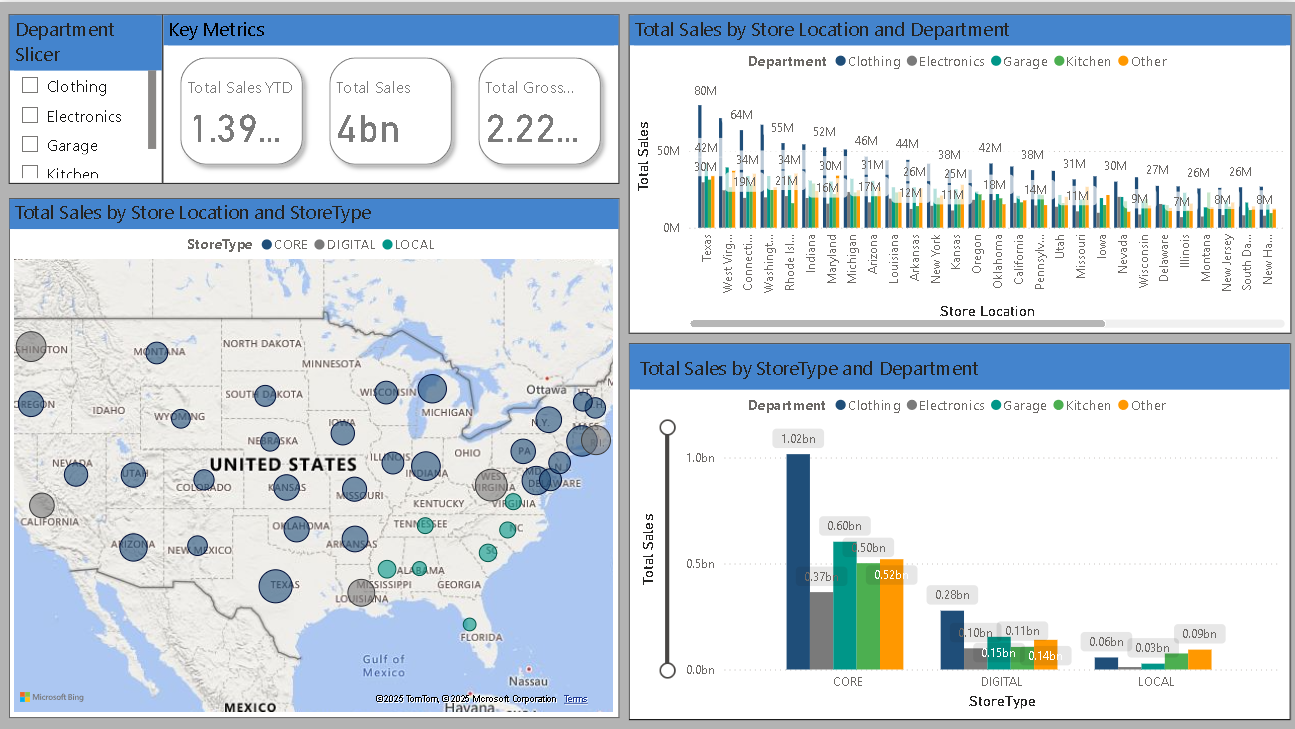

What the dashboard file says about the page in this screenshot:
{"tool":"powerbi","page":{"name":"Sales ","canvas":[1280,720],"ordinal":0},"visuals":[{"type":"clusteredColumnChart","fields":{"Category":["Store Details.StoreType"],"Series":["Categories.Department"],"Y":["Retail Sales.Total Sales"]},"box":[621.4,336.5,653.9,372],"z":0},{"type":"map","fields":{"Category":["Store Details.Store Location"],"Series":["Store Details.StoreType"],"Size":["Retail Sales.Total Sales"]},"box":[8.6,194.4,602.9,513.6],"z":1000},{"type":"lineClusteredColumnComboChart","fields":{"Category":["Store Details.Store Location"],"Series":["Categories.Department"],"Y":["Retail Sales.Total Sales"]},"box":[621.2,12.2,654.2,315.5],"z":2000},{"type":"cardVisual","title":"Key Metrics","fields":{"Data":["Retail Sales.Total Sales YTD","Retail Sales.Total Sales","Retail Sales.Total Gross Margin"]},"box":[160.2,12.2,451.2,167.5],"z":3000},{"type":"slicer","title":"Department Slicer","fields":{"Values":["Categories.Department"]},"box":[8.6,12.2,151.6,167.5],"z":4000}]}

Visuals, with their boxes in screenshot pixels (x1, y1, x2, y2), scaled from the page's 1280x720 canvas onto the 1295x729 screenshot:
clusteredColumnChart - Store Details.StoreType x Categories.Department: 629, 341, 1290, 717
map - Store Details.Store Location x Store Details.StoreType: 9, 197, 619, 717
lineClusteredColumnComboChart - Store Details.Store Location x Categories.Department: 628, 12, 1290, 332
"Key Metrics" cardVisual: 162, 12, 619, 182
"Department Slicer" slicer: 9, 12, 162, 182
